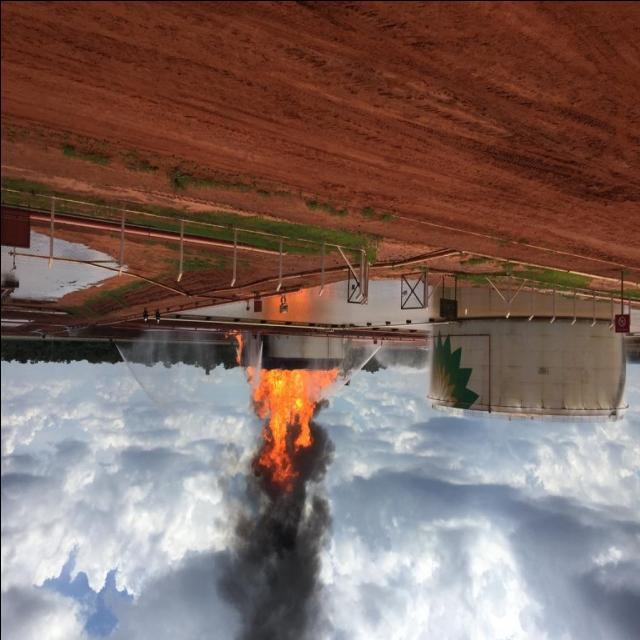Fire: (242, 363, 339, 478), (230, 333, 242, 361)
